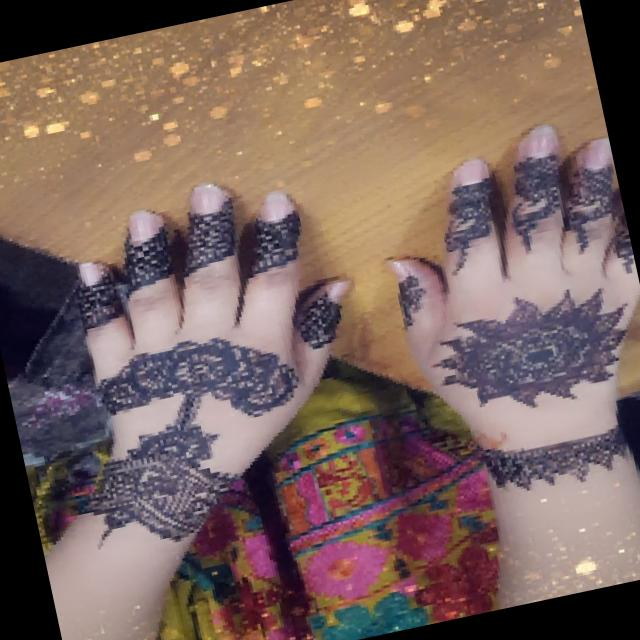Nail: (127, 208, 163, 243), (522, 123, 556, 158), (188, 182, 223, 214), (259, 190, 291, 222), (452, 157, 486, 185), (582, 137, 608, 169), (76, 260, 101, 285), (326, 279, 350, 302), (383, 258, 401, 274)
